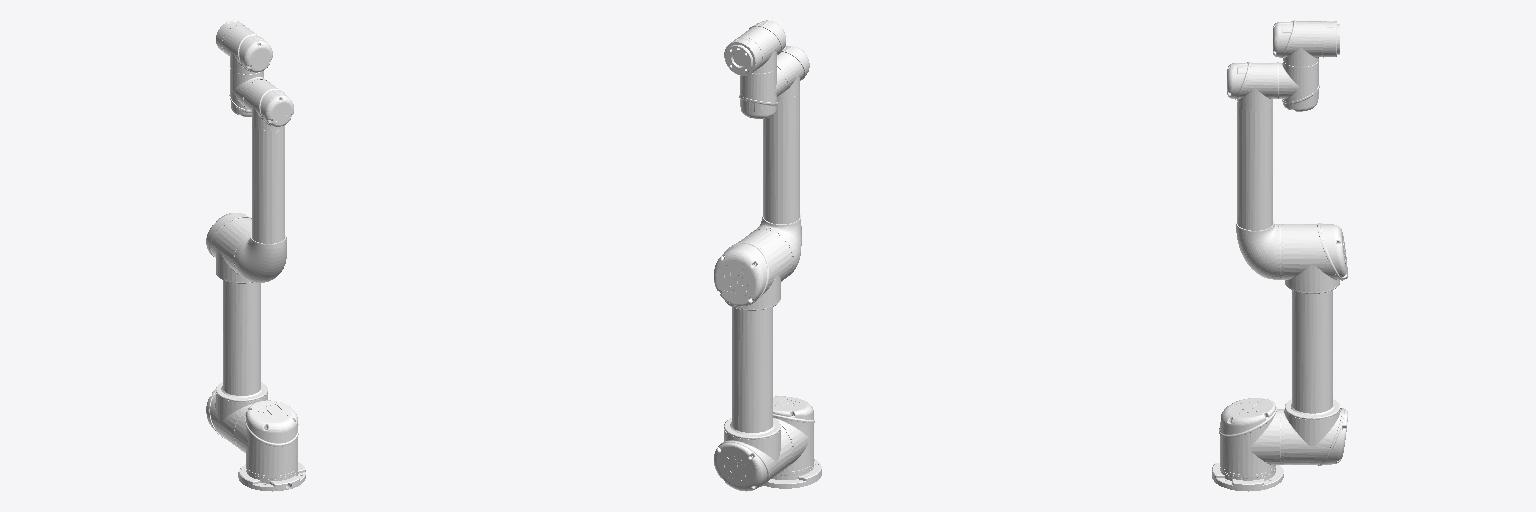
URDF robot description (ur5_test):
<robot name="ur5_test">

        <link name="world">
                
        </link>

         <link name="base_link">
		<inertial>
			<origin xyz="3.912E-07 -0.00051943 0.016561" rpy="0 0 0" />
			<mass value="0.50431" />
			<inertia ixx="0.00058509" ixy="-1.2972E-08" ixz="2.5751E-09" iyy="0.0006201" iyz="2.1581E-06" izz="0.0010709" />
		</inertial>
                <visual>
                        <origin xyz="0 0 0" rpy="0 0 0" />
                        <geometry>
                                <mesh filename="package://ur5/meshes/ur5/base_link.STL" />
                        </geometry>
                        <material name="">
                                <color rgba="1 1 1 1" />
                        </material>
                </visual>
		<collision>
			<origin xyz="0 0 0" rpy="0 0 0" />
			<geometry>
				<mesh  filename="package://ur5/meshes/ur5/base_link.STL" />
			</geometry>
		</collision>
	</link>

	<joint name="joint_base" type="fixed">
		<origin xyz="0.0 0.0 0.0" rpy="0.0 0.0 0.0"/>
		<parent link="world"/>
		<child link="base_link"/>
		<axis xyz="0.0 0.0 0.0"/>
	</joint>
        <gazebo reference="base">
                <material>Gazebo/Black</material>
        </gazebo>

	<link name="link_1">
		<inertial>
			<origin xyz="-5.7918E-06 0.01644 -0.0010418" rpy="0 0 0" />
			<mass value="1.573" />
			<inertia  ixx="0.0026208" ixy="4.502E-07" ixz="1.332E-07" iyy="0.0025379" iyz="-0.00031935" izz="0.0028298" />
		</inertial>
		<visual>
			<origin xyz="0 0 0" rpy="0 0 0" />
			<geometry>
				<mesh filename="package://ur5/meshes/ur5/link_1.STL" />
			</geometry>
			<material name="">
				<color rgba="1 1 1 1" />
			</material>
		</visual>
		<collision>
			<origin xyz="0 0 0" rpy="0 0 0" />
			<geometry>
				<mesh filename="package://ur5/meshes/ur5/link_1.STL" />
			</geometry>
		</collision>
	</link>
        <joint  name="shoulder_pan_joint" type="revolute">
                <origin xyz="0 0 0.09" rpy="0 0 0" />
                <parent link="base_link" />
                <child link="link_1" />
                <axis xyz="0 0 1" />
                <limit lower="-3.14" upper="3.14" effort="100" velocity="1.0" />
        </joint>
        <gazebo reference="link_1">
                <material>Gazebo/Orange</material>
        </gazebo>

	<link name="link_2">
		<inertial>
			<origin xyz="0.21305 8.8316E-08 0.13333" rpy="0 0 0" />
			<mass value="4.5924" />
			<inertia  ixx="0.0063045" ixy="-9.0042E-07" ixz="-3.7647E-13" iyy="0.021264" iyz="-2.2571E-07" izz="0.021699"  />
		</inertial>
		<visual>
			<origin xyz="0 0 0" rpy="0 0 0" />
			<geometry>
				<mesh filename="package://ur5/meshes/ur5/link_2.STL" />
			</geometry>
			<material name="">
				<color  rgba="1 1 1 1" />
			</material>
		</visual>
		<collision>
			<origin xyz="0 0 0"  rpy="0 0 0" />
			<geometry>
				<mesh filename="package://ur5/meshes/ur5/link_2.STL" />
			</geometry>
		</collision>
	</link>
	<joint  name="shoulder_lift_joint" type="revolute">
		<origin xyz="0 0 0" rpy="-1.5708 -1.5708 0" />
		<parent link="link_1" />
		<child link="link_2" />
		<axis xyz="0 0 1" />
		<limit lower="-3.14" upper="3.14" effort="100" velocity="1.0" />
	</joint>
        <gazebo reference="link_2">
                <material>Gazebo/Orange</material>
        </gazebo>


	<link name="link_3">
		<inertial>
			<origin  xyz="0.16948 2.5838E-06 -0.022486" rpy="0 0 0" />
			<mass value="2.7668" />
			<inertia  ixx="0.0023065" ixy="4.2528E-07" ixz="-0.00011285" iyy="0.011721" iyz="-2.692E-07" izz="0.011938" />
		</inertial>
		<visual>
			<origin  xyz="0 0 0"  rpy="0 0 0" />
			<geometry>
				<mesh  filename="package://ur5/meshes/ur5/link_3.STL" />
			</geometry>
			<material name="">
				<color  rgba="1 1 1 1" />
			</material>
		</visual>
		<collision>
			<origin xyz="0 0 0" rpy="0 0 0" />
			<geometry>
				<mesh filename="package://ur5/meshes/ur5/link_3.STL" />
			</geometry>
		</collision>
	</link>
	<joint name="elbow_joint" type="revolute">
		<origin xyz="0.425 0 0" rpy="3.1416 0 0" />
		<parent  link="link_2" />
		<child link="link_3" />
		<axis xyz="0 0 1" />
		<limit lower="-3.14" upper="3.14" effort="100" velocity="1.0" />
	</joint>
        <gazebo reference="link_3">
                <material>Gazebo/Orange</material>
        </gazebo>



	<link name="link_4">
		<inertial>
			<origin xyz="1.2912E-05 0.0033586 -0.010712" rpy="0 0 0" />
			<mass value="0.54083" />
			<inertia ixx="0.00038701" ixy="-2.859E-07" ixz="4.0984E-07" iyy="0.0004144" iyz="4.2787E-05" izz="0.00036444" />
		</inertial>
		<visual>
			<origin xyz="0 0 0" rpy="0 0 0" />
			<geometry>
				<mesh filename="package://ur5/meshes/ur5/link_4.STL" />
			</geometry>
			<material name="">
				<color rgba="1 1 1 1" />
			</material>
		</visual>
		<collision>
			<origin xyz="0 0 0" rpy="0 0 0" />
			<geometry>
				<mesh filename="package://ur5/meshes/ur5/link_4.STL" />
			</geometry>
		</collision>
	</link>
	<joint name="wrist_1_joint" type="revolute">
		<origin  xyz="0.39225 0 -0.1098" rpy="-3.1416 0 -1.5708" />
		<parent link="link_3" />
		<child link="link_4" />
		<axis xyz="0 0 1" />
		<limit lower="-3.14" upper="3.14" effort="100" velocity="1.0" />
	</joint>
        <gazebo reference="link_4">
                <material>Gazebo/Orange</material>
        </gazebo>


	<link name="link_5">
		<inertial>
		<origin xyz="-1.2073E-05 -0.00083248 -0.010152" rpy="0 0 0" />
		<mass value="0.57063" />
		<inertia  ixx="0.00039708" ixy="-2.8701E-07" ixz="-4.106E-07" iyy="0.00043429" iyz="-4.2785E-05" izz="0.00037452" />
		</inertial>
		<visual>
			<origin xyz="0 0 0" rpy="0 0 0" />
			<geometry>
				<mesh filename="package://ur5/meshes/ur5/link_5.STL" />
			</geometry>
			<material name="">
				<color rgba="1 1 1 1" />
			</material>
		</visual>
		<collision>
			<origin xyz="0 0 0" rpy="0 0 0" />
			<geometry>
				<mesh filename="package://ur5/meshes/ur5/link_5.STL" />
			</geometry>
		</collision>
	</link>
		<joint name="wrist_2_joint" type="revolute">
		<origin xyz="0 -0.0945 0" rpy="1.5708 0 0" />
		<parent link="link_4" />
		<child link="link_5" />
		<axis xyz="0 0 1" />
		<limit lower="-3.14" upper="3.14" effort="100" velocity="1.0" />
	</joint>
        <gazebo reference="link_5">
                <material>Gazebo/Orange</material>
        </gazebo>
	<link name="link_6">
		<inertial>
			<origin xyz="1.2098E-16 0.00018126 -0.018022" rpy="0 0 0" />
			<mass value="0.13015" />
			<inertia ixx="5.4976E-05" ixy="1.8055E-20" ixz="-4.4488E-20" iyy="5.5674E-05" iyz="-1.0559E-07" izz="9.0143E-05" />
		</inertial>
		<visual>
			<origin xyz="0 0 0" rpy="0 0 0" />
			<geometry>
				<mesh filename="package://ur5/meshes/ur5/link_6.STL" />
			</geometry>
			<material name="">
				<color rgba="1 1 1 1" />
			</material>
		</visual>
		<collision>
			<origin xyz="0 0 0" rpy="0 0 0" />
			<geometry>
				<mesh filename="package://ur5/meshes/ur5/link_6.STL" />
			</geometry>
		</collision>
	</link>
	<joint name="wrist_3_joint" type="revolute">
		<origin xyz="0 0.0815 0" rpy="-1.5708 0 0" />
		<parent link="link_5" />
		<child link="link_6" />
		<axis xyz="0 0 1" />
		<limit lower="-3.14" upper="3.14" effort="100" velocity="1.0" />
	</joint>
        <gazebo reference="link_6">
                <material>Gazebo/Yellow</material>
        </gazebo>

        
//VelocityJointInterface
//PositionJointInterface
        <transmission name="trans_1">
                <type>transmission_interface/SimpleTransmission</type>
                <actuator name="motor_1">
                        <hardwareInterface>hardware_interface/PositionJointInterface</hardwareInterface>                
                        <mechanicalReduction>1</mechanicalReduction>
                </actuator>
                <joint name="shoulder_pan_joint">
                        <hardwareInterface>hardware_interface/PositionJointInterface</hardwareInterface>
                </joint>
        </transmission>

        <transmission name="trans_2">
                <type>transmission_interface/SimpleTransmission</type>
                <actuator name="motor_2">
                        <hardwareInterface>hardware_interface/PositionJointInterface</hardwareInterface>                
                        <mechanicalReduction>1</mechanicalReduction>
                </actuator>
                <joint name="shoulder_lift_joint">
                        <hardwareInterface>hardware_interface/PositionJointInterface</hardwareInterface>
                </joint>
        </transmission>

        <transmission name="trans_3">
                <type>transmission_interface/SimpleTransmission</type>
                <actuator name="motor_3">
                        <hardwareInterface>hardware_interface/PositionJointInterface</hardwareInterface>                
                        <mechanicalReduction>1</mechanicalReduction>
                </actuator>
                <joint name="elbow_joint">
                        <hardwareInterface>hardware_interface/PositionJointInterface</hardwareInterface>
                </joint>
        </transmission>

         <transmission name="trans_4">
                <type>transmission_interface/SimpleTransmission</type>
                <actuator name="motor_4">
                        <hardwareInterface>hardware_interface/PositionJointInterface</hardwareInterface>                
                        <mechanicalReduction>1</mechanicalReduction>
                </actuator>
                <joint name="wrist_1_joint">
                        <hardwareInterface>hardware_interface/PositionJointInterface</hardwareInterface>
                </joint>
        </transmission> 

        <transmission name="trans_5">
                <type>transmission_interface/SimpleTransmission</type>
                <actuator name="motor_5">
                        <hardwareInterface>hardware_interface/PositionJointInterface</hardwareInterface>                
                        <mechanicalReduction>1</mechanicalReduction>
                </actuator>
                <joint name="wrist_2_joint">
                        <hardwareInterface>hardware_interface/PositionJointInterface</hardwareInterface>
                </joint>
        </transmission>

         <transmission name="trans_6">
                <type>transmission_interface/SimpleTransmission</type>
                <actuator name="motor_6">
                        <hardwareInterface>hardware_interface/PositionJointInterface</hardwareInterface>                
                        <mechanicalReduction>1</mechanicalReduction>
                </actuator>
                <joint name="wrist_3_joint">
                        <hardwareInterface>hardware_interface/PositionJointInterface</hardwareInterface>
                </joint>
        </transmission> 


        <gazebo>
                <plugin name="gazebo_ros_control" filename="libgazebo_ros_control.so">
                </plugin>
        </gazebo>

        <gazebo>
        <plugin name="p3d_base_controller" filename="libgazebo_ros_p3d.so">
                <alwaysOn>true</alwaysOn>
                <updateRate>50.0</updateRate>
                <bodyName>link_6</bodyName>
                <topicName>end_pose</topicName>
                <gaussianNoise>0.0</gaussianNoise>
                <frameName>world</frameName>
                <xyzOffsets>0 0 0</xyzOffsets>
                <rpyOffsets>0 0 0</rpyOffsets>
        </plugin>
        </gazebo>

        
</robot>

--- Facts derived from the render (not from the file) ---
3 views of the same robot in one strip: view 1: azimuth 30°, elevation 25°; view 2: azimuth 150°, elevation 25°; view 3: azimuth 270°, elevation 25° (orthographic).
Robot: ur5_test — 8 links, 7 joints (6 revolute, 1 fixed); root link world; default pose: all joints at 0.
Links seen in each view (by area): view 1: link_2, link_3, link_1, link_5, base_link, link_4; view 2: link_2, link_3, link_1, link_4, link_5, link_6, base_link; view 3: link_2, link_3, link_1, link_5, link_4, base_link, link_6.
Link boxes in pixels (x1,y1,x2,y2): link_2: (206, 213, 267, 446); link_3: (233, 80, 293, 282); link_1: (233, 400, 298, 475); link_5: (222, 25, 272, 75); base_link: (238, 462, 305, 491); link_4: (229, 70, 269, 116); link_2: (714, 229, 792, 491); link_3: (751, 46, 809, 278); link_1: (773, 396, 814, 471); link_4: (739, 65, 786, 118); link_5: (738, 20, 785, 74); link_6: (724, 37, 761, 75); base_link: (764, 457, 821, 488); link_2: (1282, 223, 1347, 465); link_3: (1227, 62, 1281, 279); link_1: (1219, 398, 1283, 474); link_5: (1273, 20, 1323, 67); link_4: (1277, 62, 1319, 111); base_link: (1212, 463, 1283, 491); link_6: (1324, 21, 1339, 56).
Size in the robot's own frame: 0.1488 by 0.2821 by 1.04 metres.
Meshes: 7 distinct files referenced, 7 mesh visuals loaded (7 binary STL).